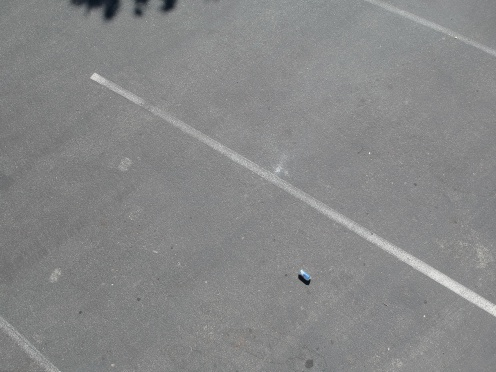can: (293, 266, 316, 286)
